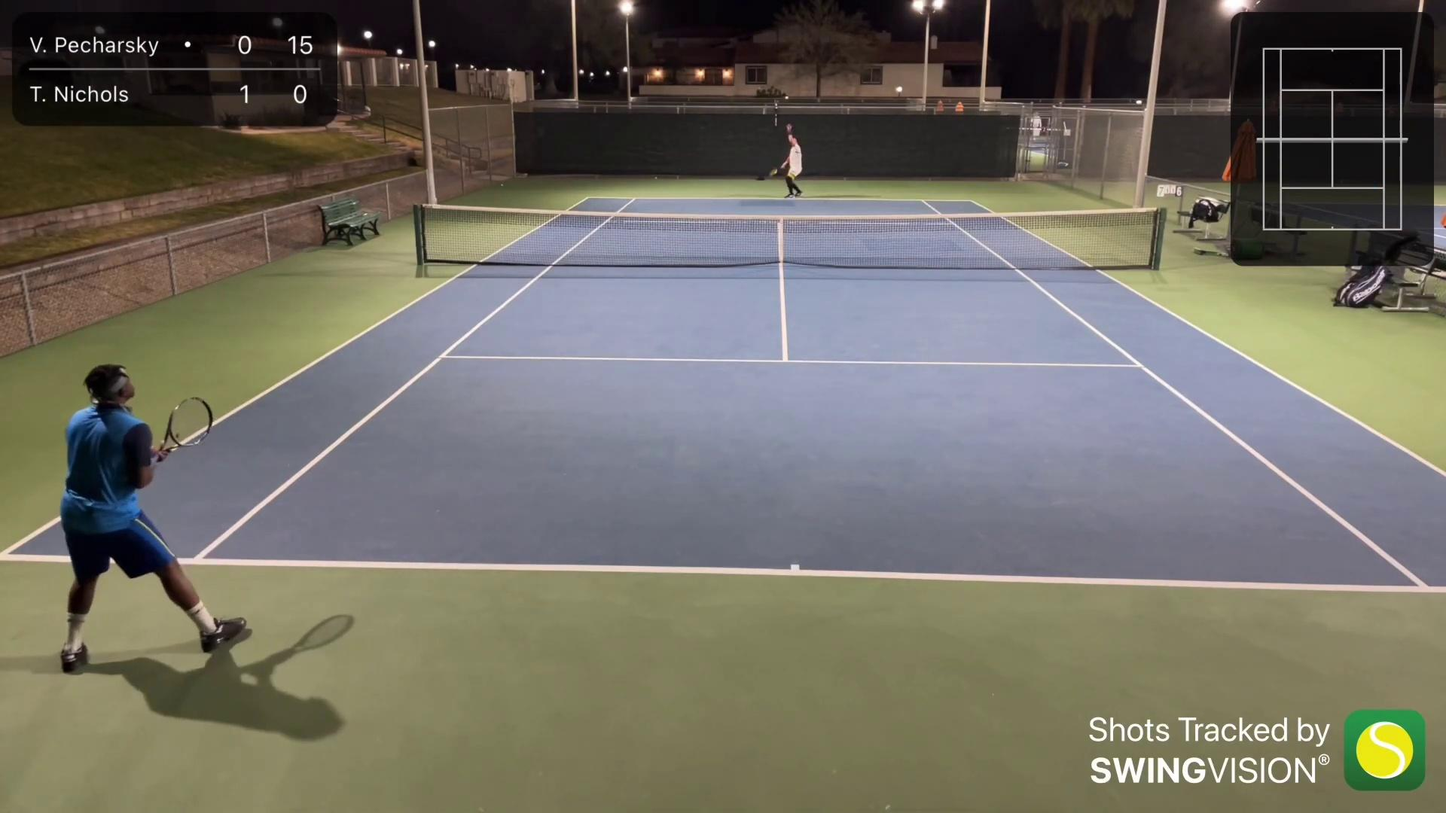ball: (782, 93, 791, 100), (497, 180, 503, 188)
